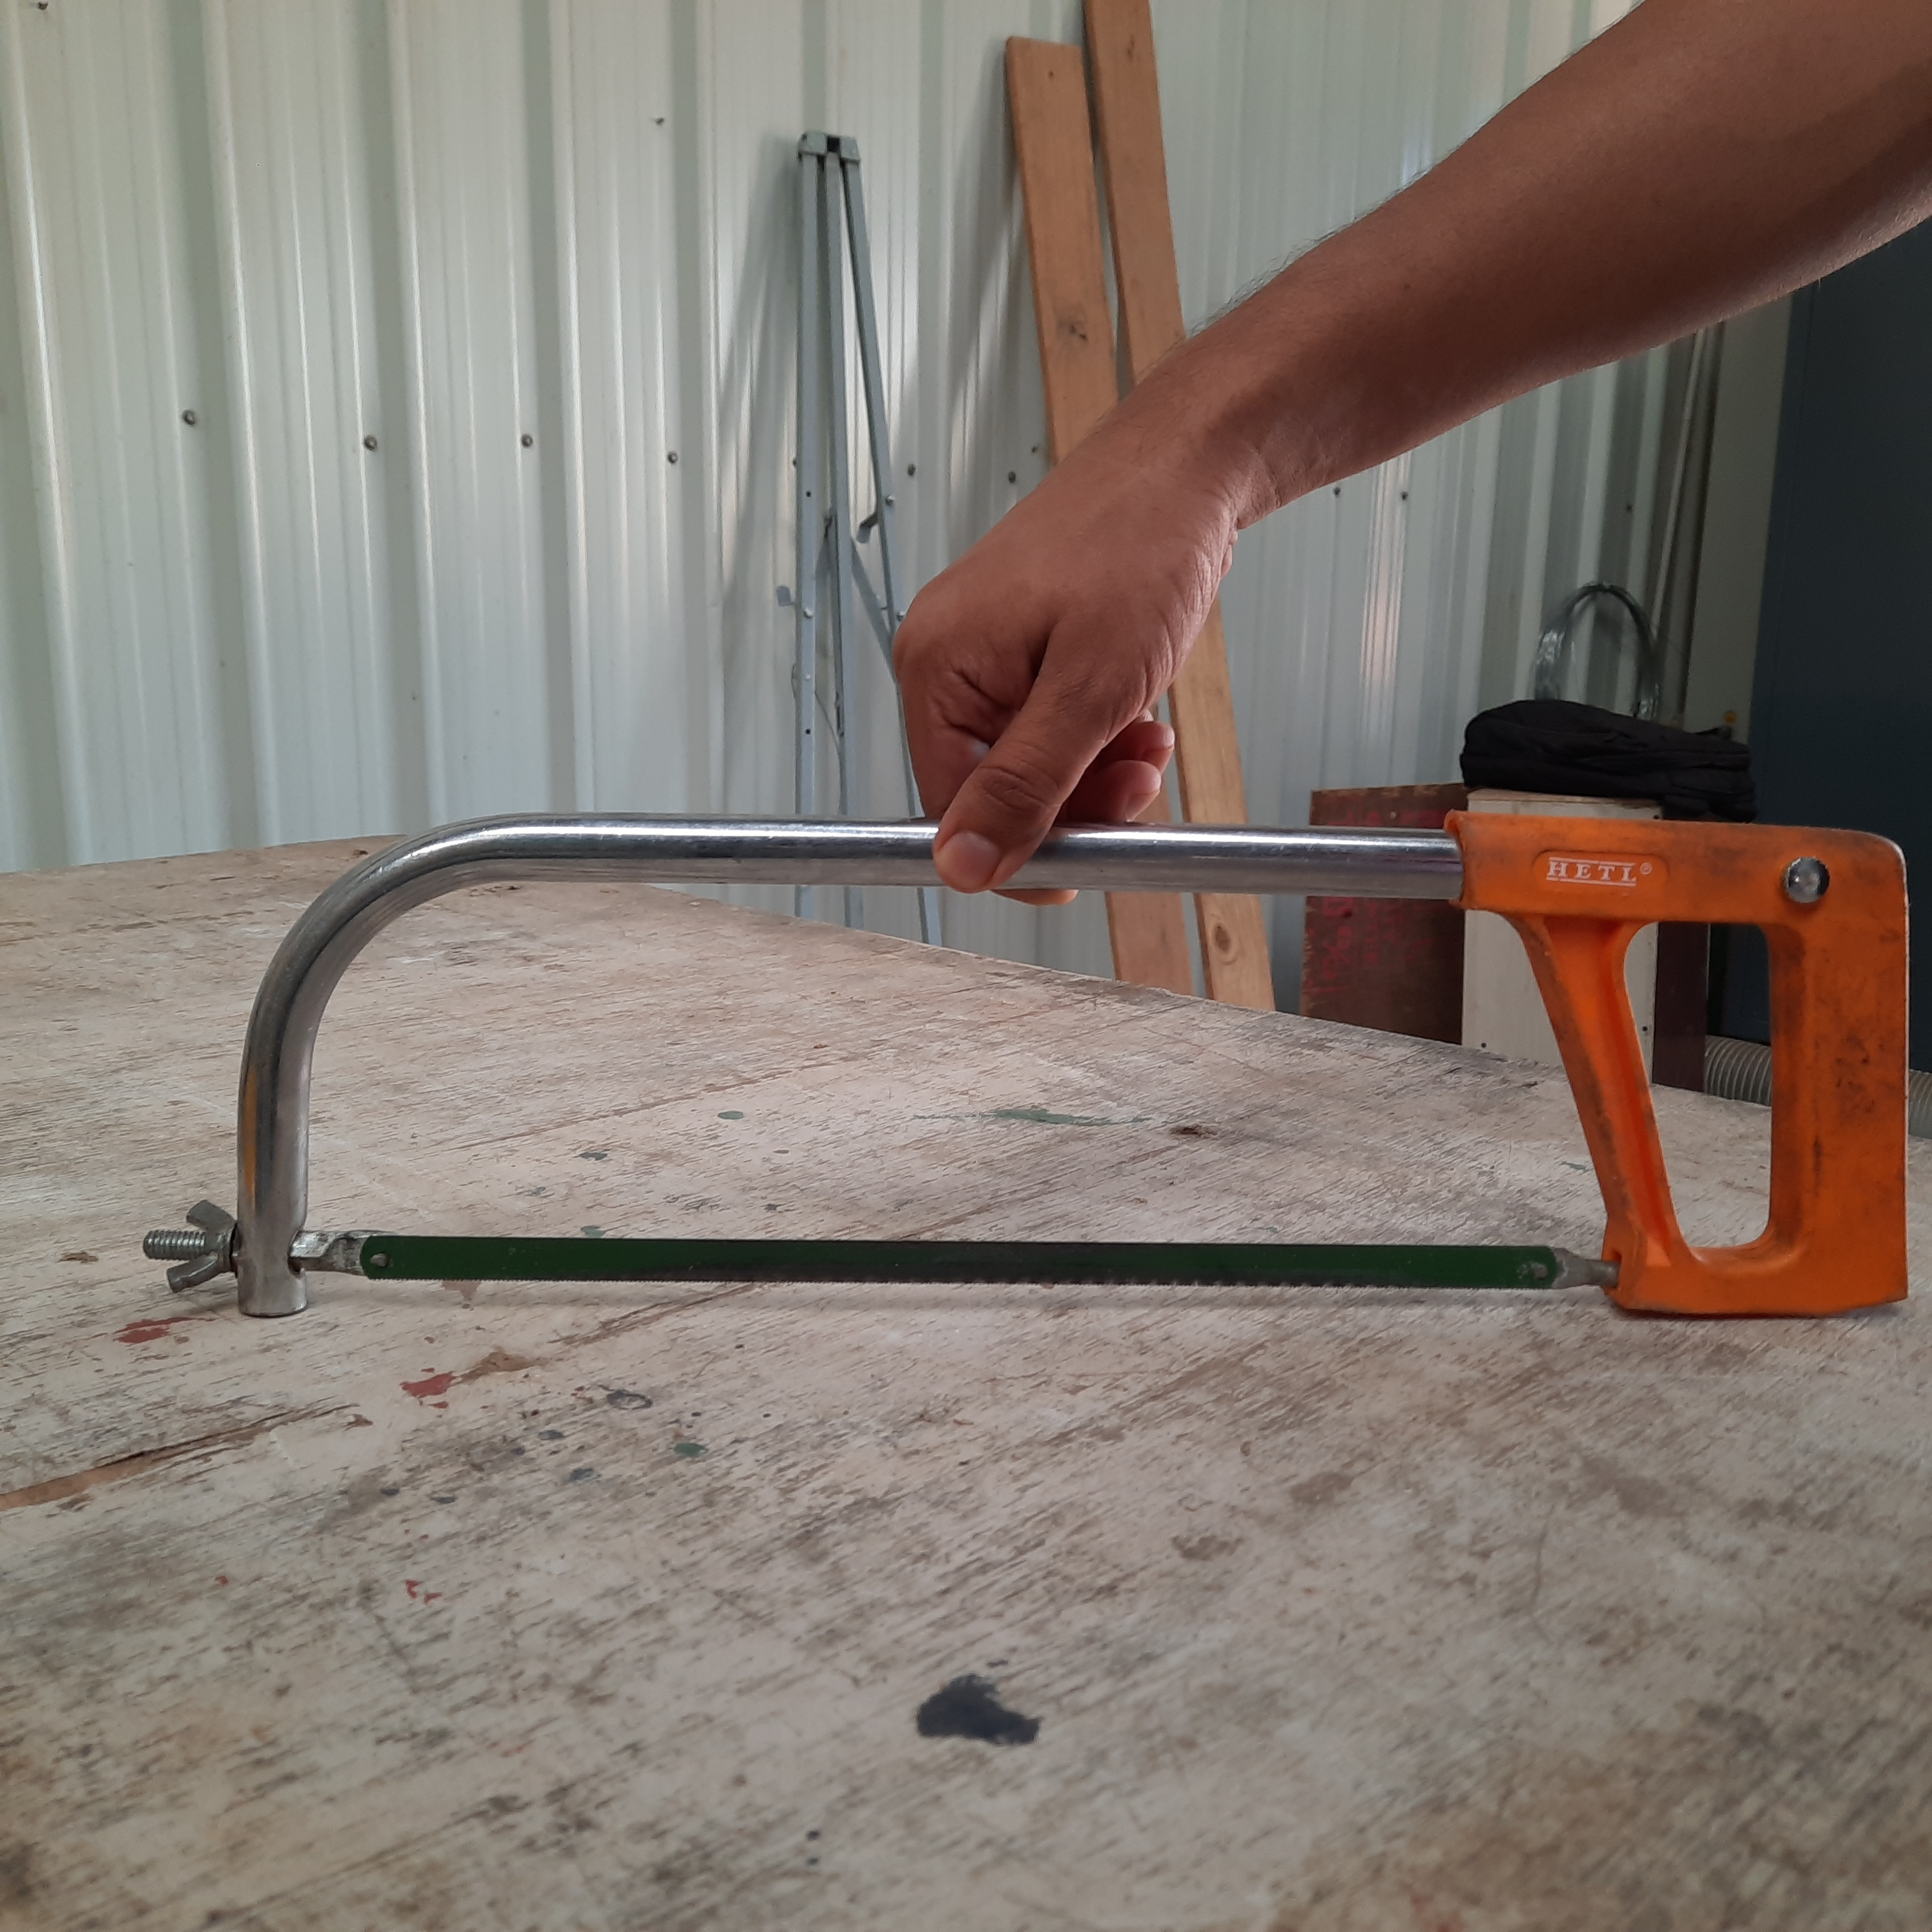Hexaframe: (115, 754, 1932, 1355)
